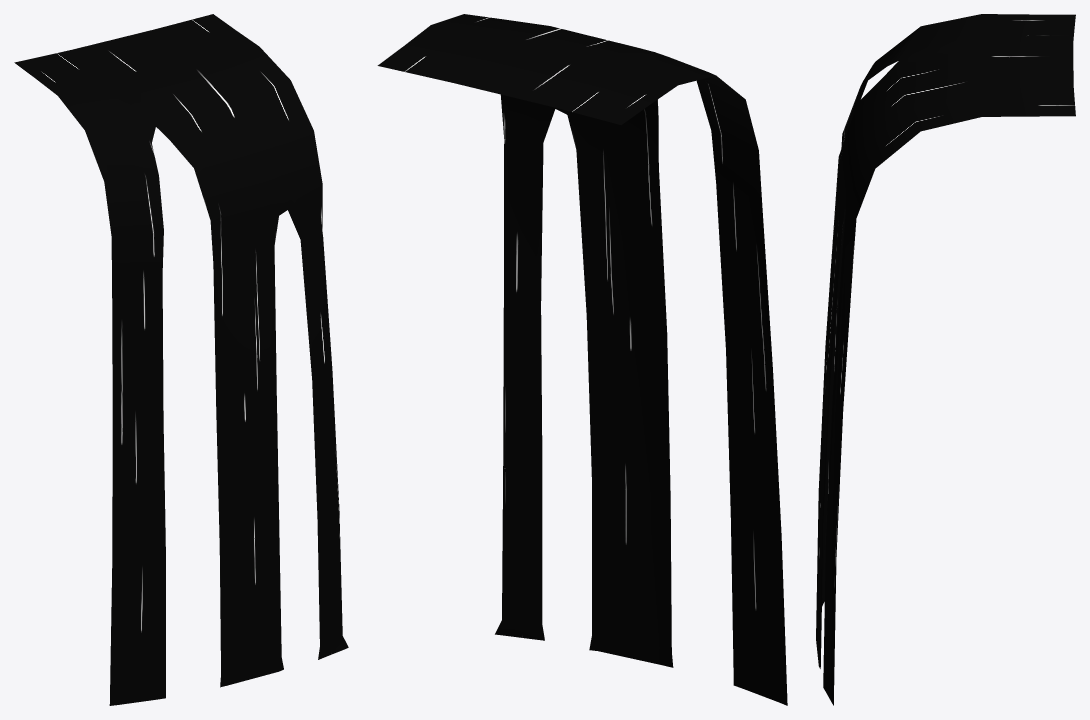
File: P_Sandfall03.obj
3 renders of one model, left to right at view 1: azimuth 30°, elevation 25°; view 2: azimuth 150°, elevation 25°; view 3: azimuth 270°, elevation 25°, orthographic. The views are drawn at different scales.
Bounding box in the file's own units: 8.17 × 18.07 × 7.35.
